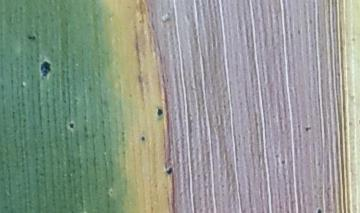tarspot: (37, 60, 53, 81), (153, 106, 166, 117), (164, 165, 176, 175), (67, 119, 77, 130), (139, 134, 148, 144), (304, 124, 313, 134), (28, 34, 37, 43), (315, 206, 325, 213), (281, 159, 288, 165)
